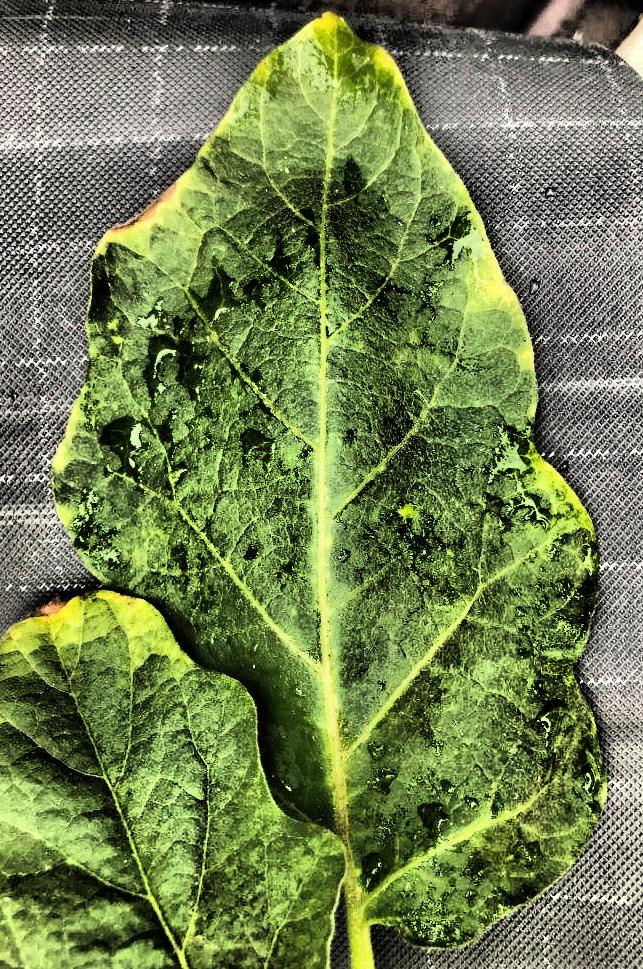Non-critical Stress: (1, 0, 643, 969)
